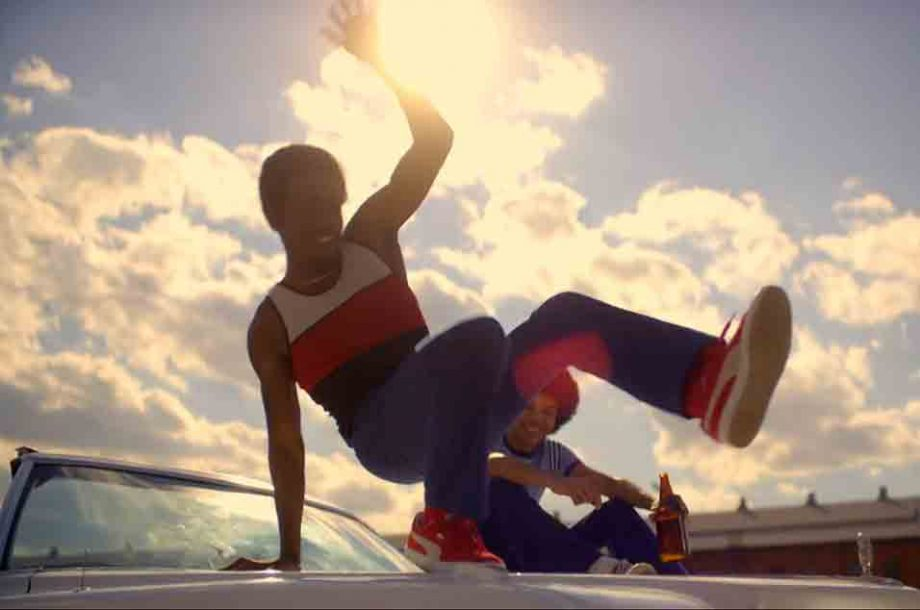Puma Suede Low Red: (692, 268, 799, 454), (399, 496, 511, 581)
